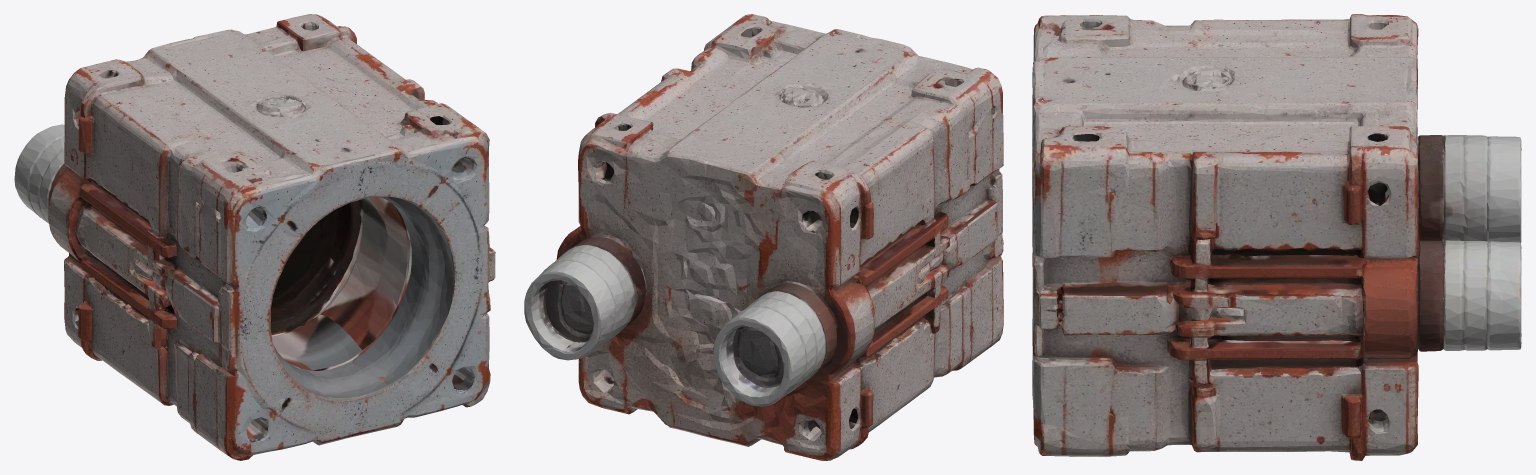
File: head (379).glb
3 views of the same model, side by side, from view 1: azimuth 30°, elevation 25°; view 2: azimuth 150°, elevation 25°; view 3: azimuth 270°, elevation 25° (orthographic). The views are drawn at different scales.
Parts seen in each view (by area): view 1: Hy21_Mesh.obj; view 2: Hy21_Mesh.obj; view 3: Hy21_Mesh.obj.
Part boxes in pixels (x1,y1,x2,y2): Hy21_Mesh.obj: (14, 14, 495, 460); Hy21_Mesh.obj: (524, 14, 1003, 460); Hy21_Mesh.obj: (1032, 14, 1521, 460).
Bounding box in the file's own units: 1.56 × 1.4 × 1.96.
Materials: 1 (1 with a texture image).
